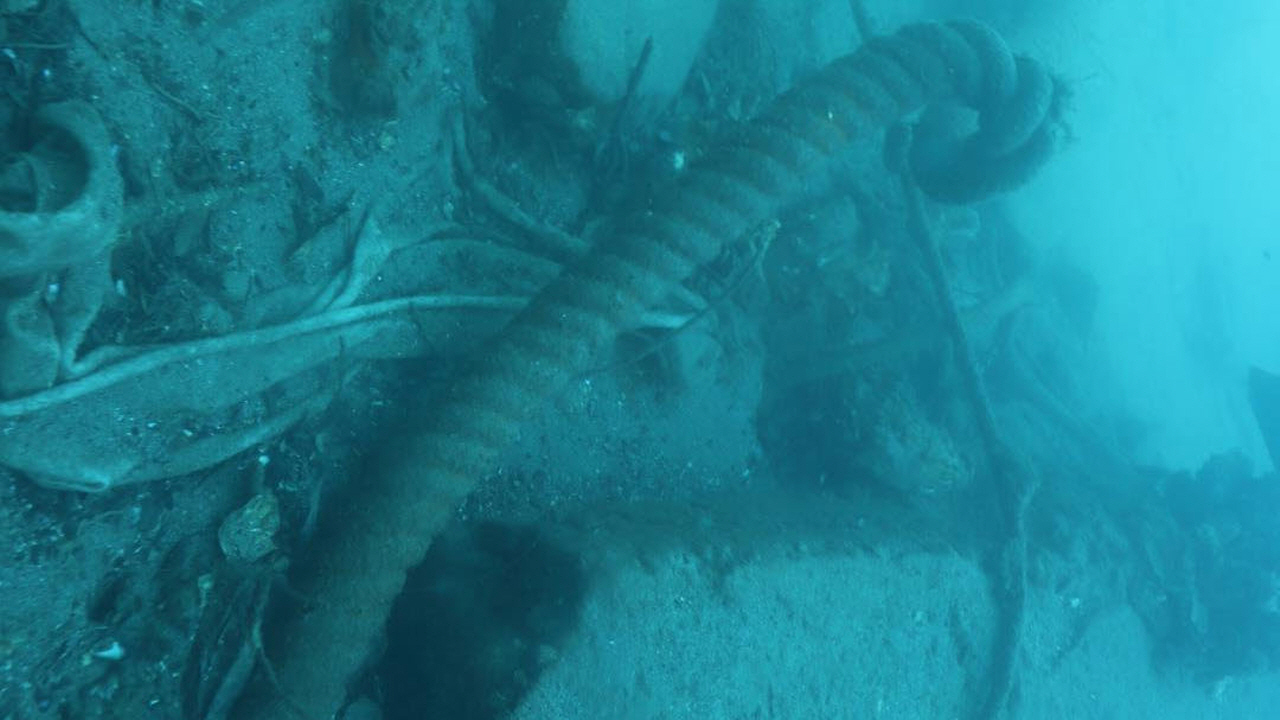rope: (232, 12, 1070, 720)
